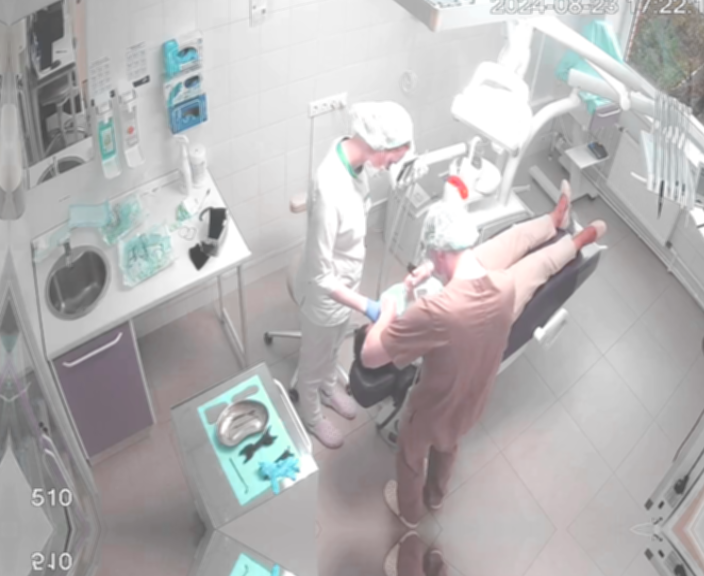Patient: (343, 175, 608, 413)
